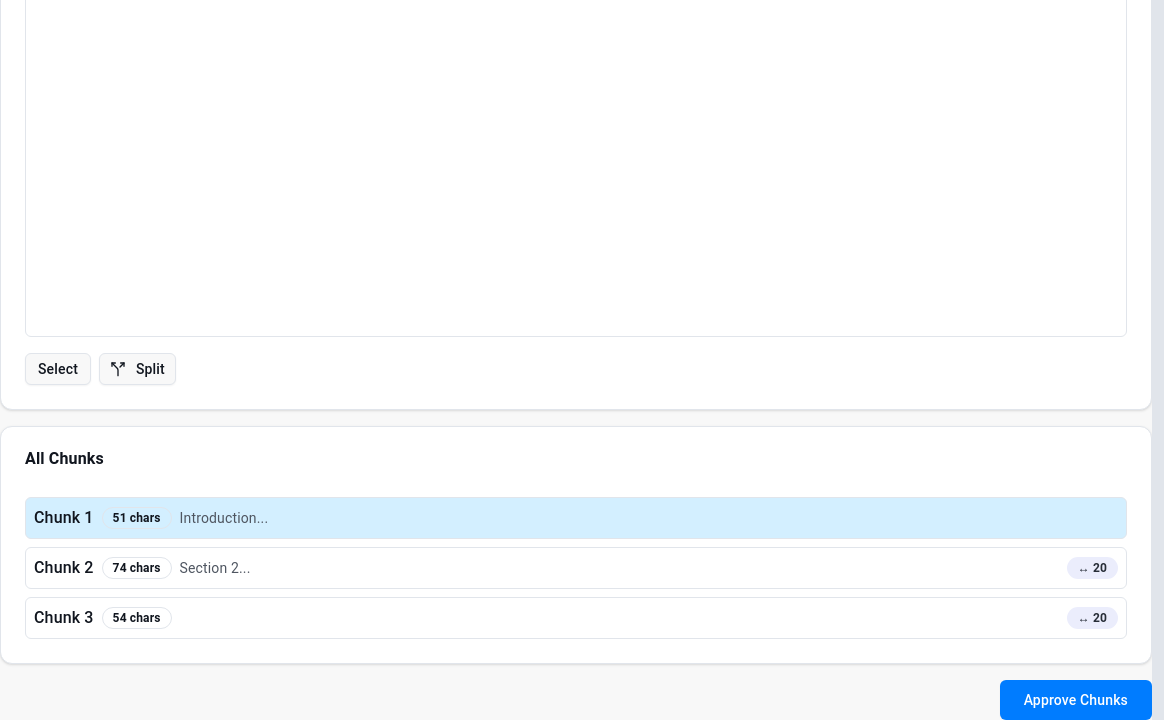
Test: ChunkPreview › should handle chunk selection
(page scrolled)
Click the button "Select": [58, 369] box [25, 353, 91, 385]
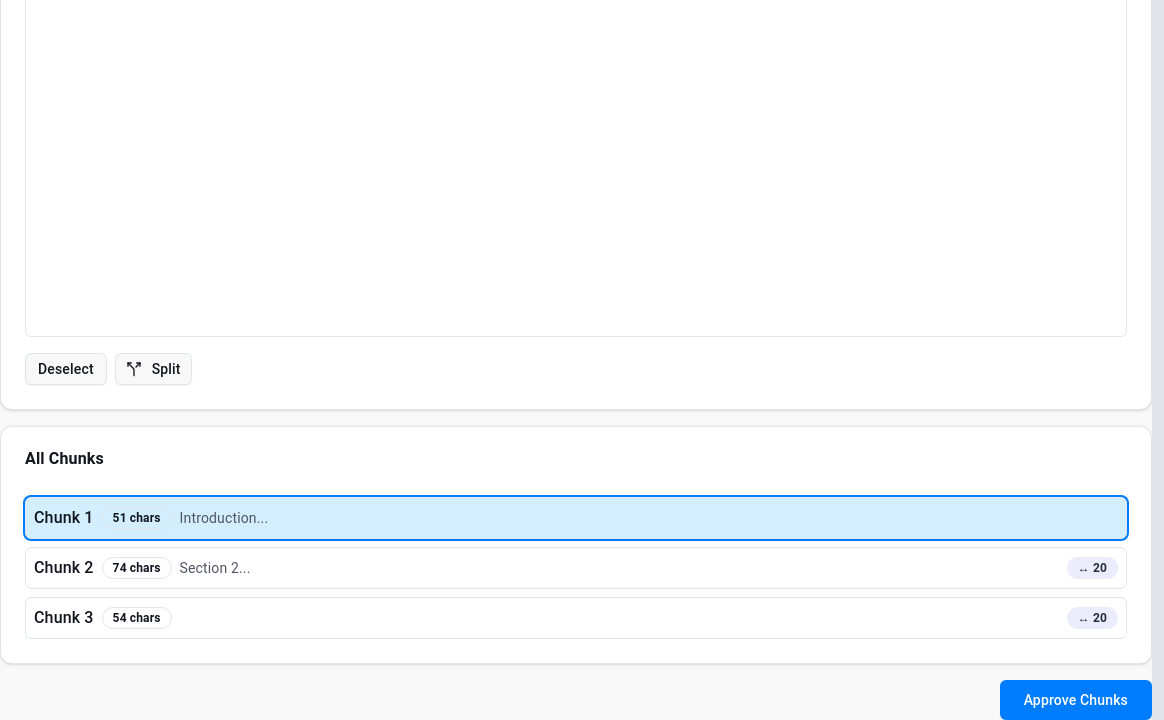
Check: the button "Deselect" is shown, box [25, 353, 107, 385]
